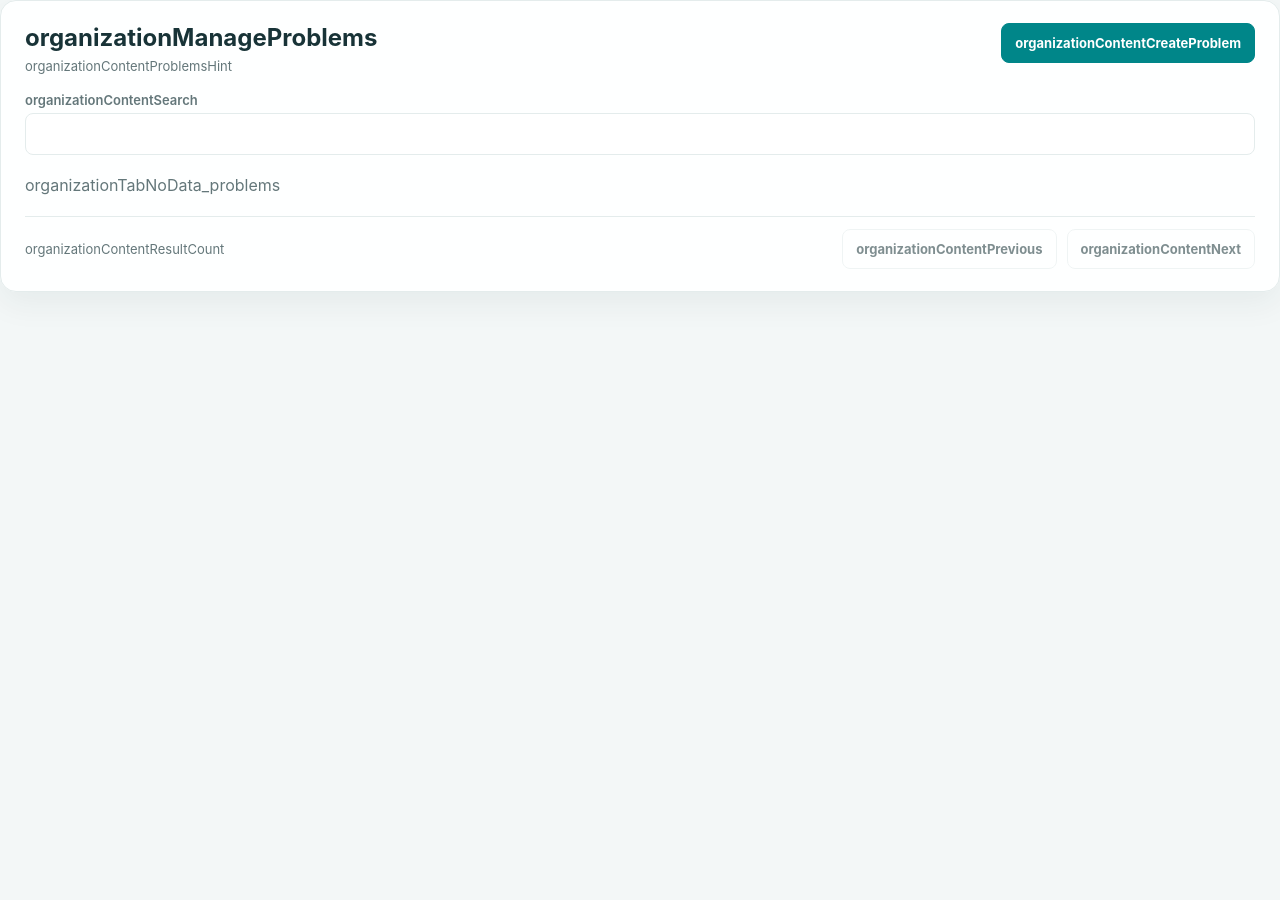
it: OrganizationContentPanel create interactions › opens, cancels, and reopens the problem form when the organization has no problems
Later steps or results of the test are not shown.
Click the button "organizationContentCreateProblem".
click(1128, 43)  # box top-left (1001, 23), bottom-right (1255, 63)
(page scrolled)
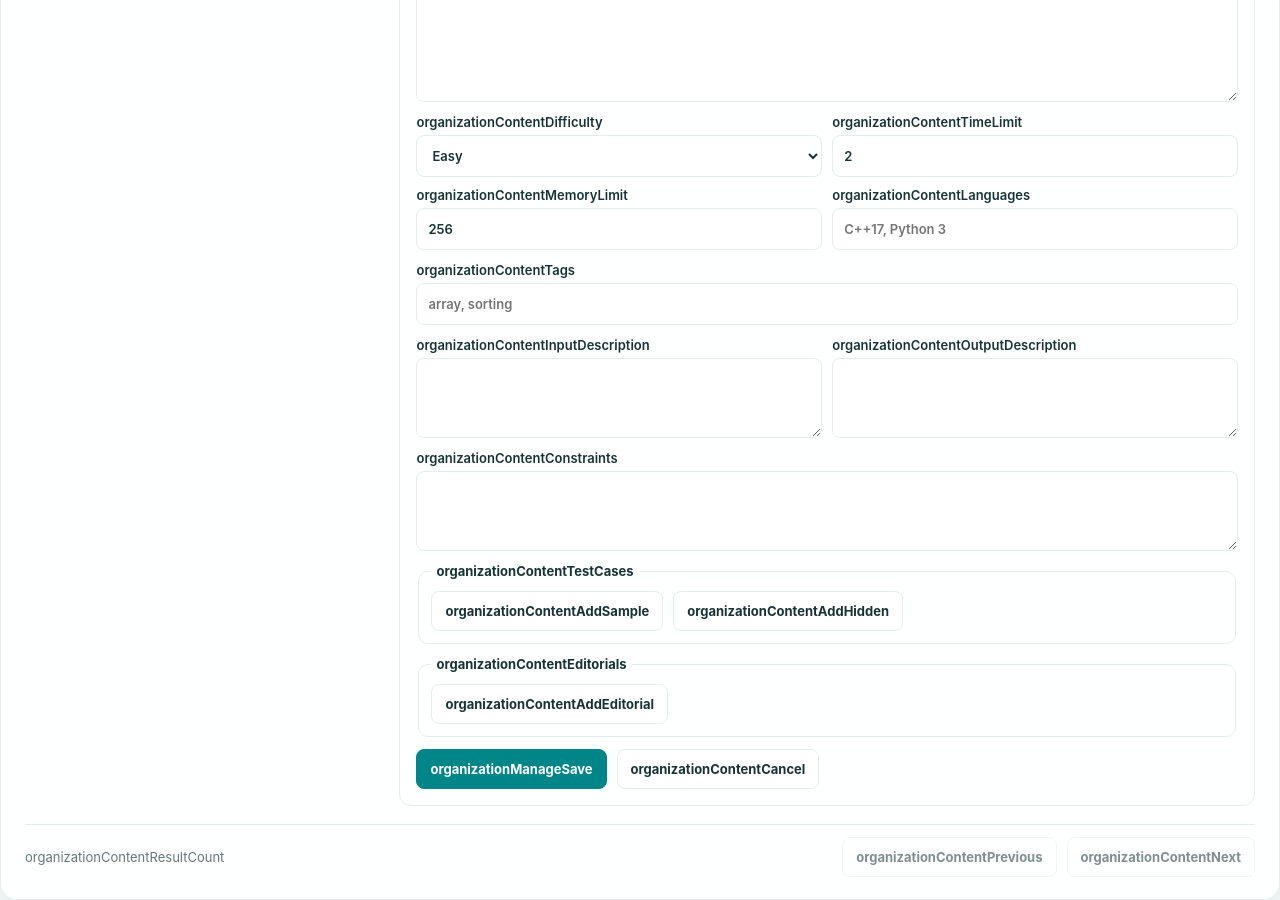
Check: the button "organizationContentCancel" is shown
Click the button "organizationContentCancel".
click(718, 769)  # box top-left (616, 749), bottom-right (819, 789)
(page scrolled)
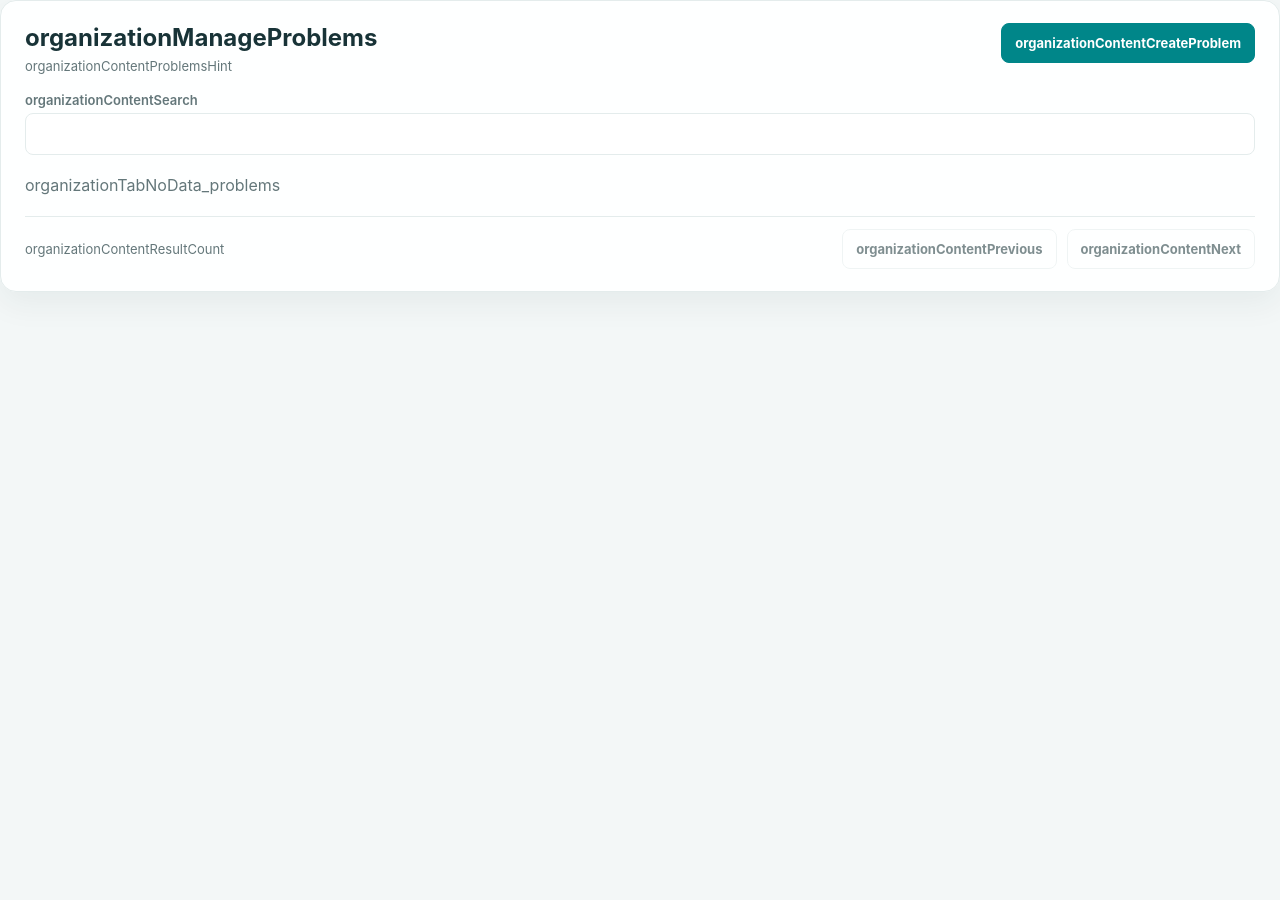
Check: the button "organizationContentCreateProblem" is shown, box top-left (1001, 23), bottom-right (1255, 63)
Check: the text "organizationTabNoData_problems" is shown, box top-left (25, 175), bottom-right (280, 195)
